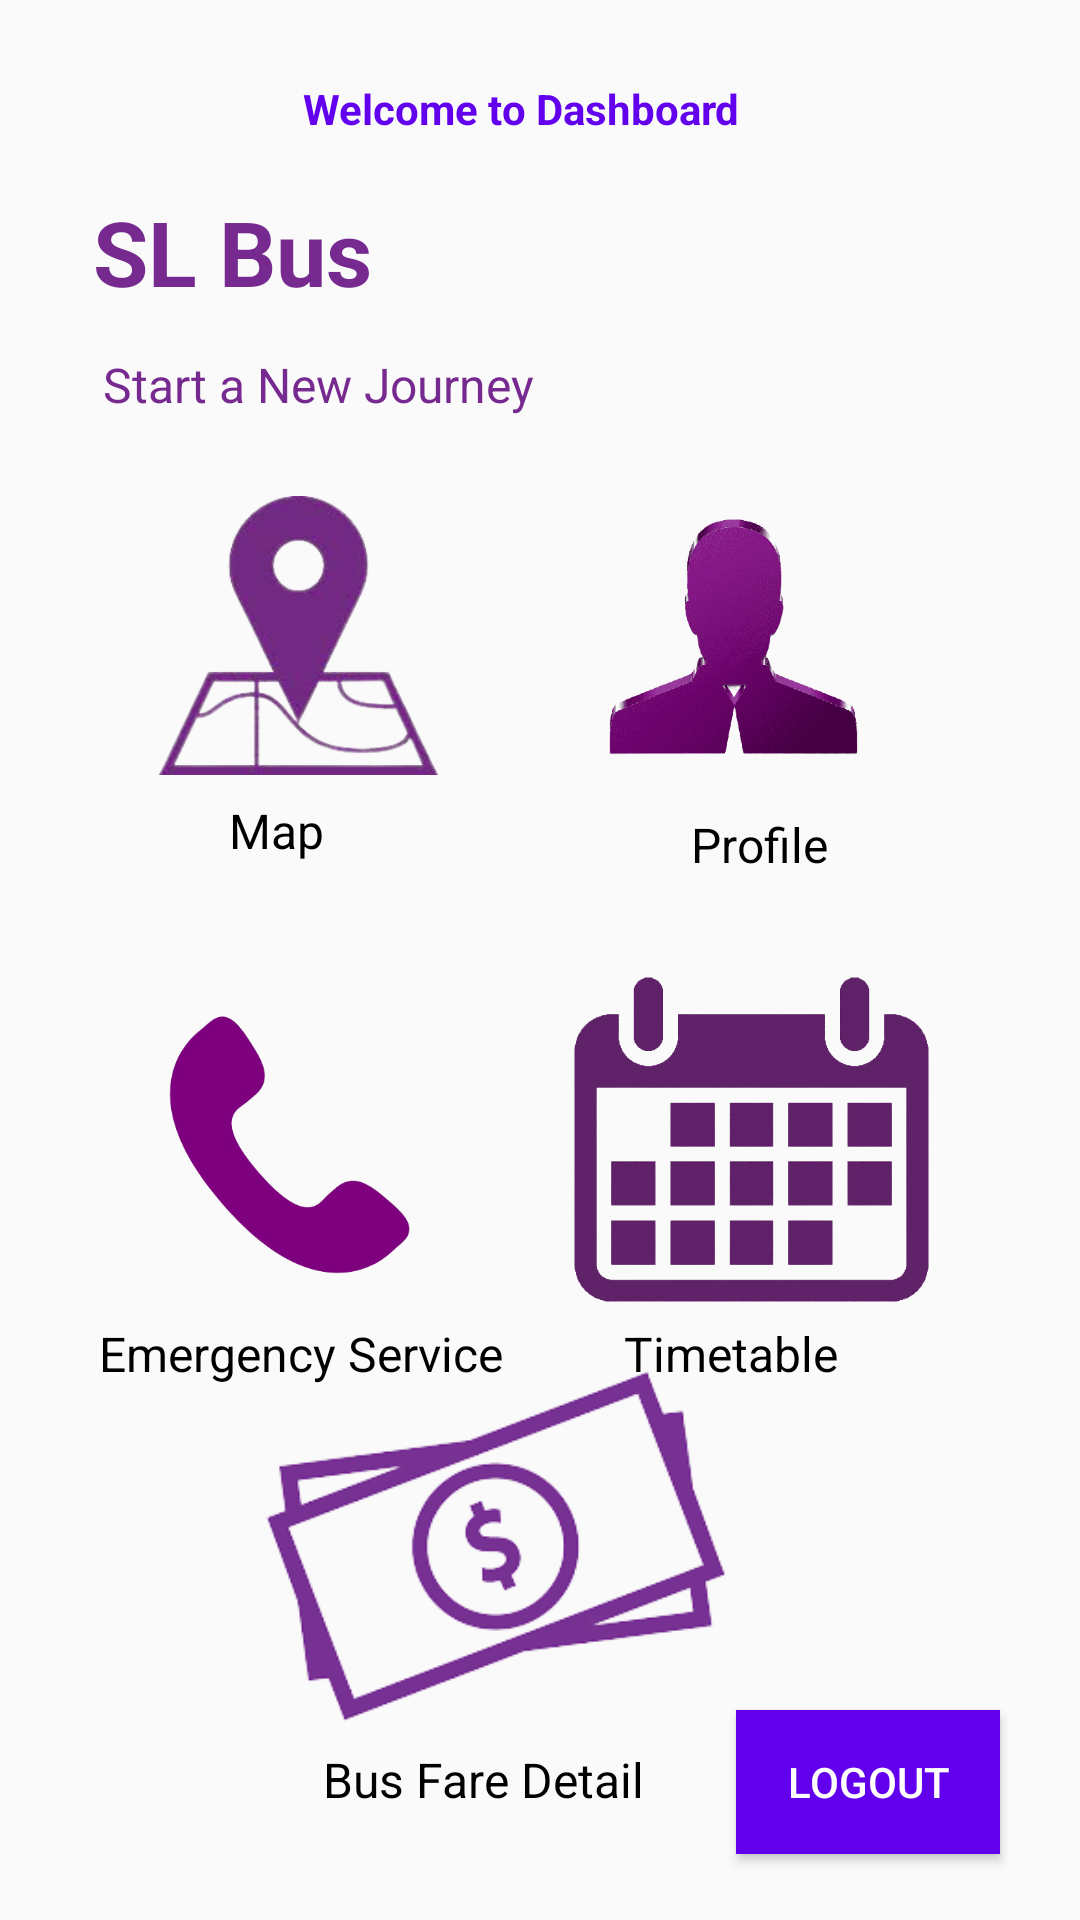

Icons on this 1080px×1920px Android screen, each with the point to tap as (x=x, y=y):
call: (x=309, y=1179)
